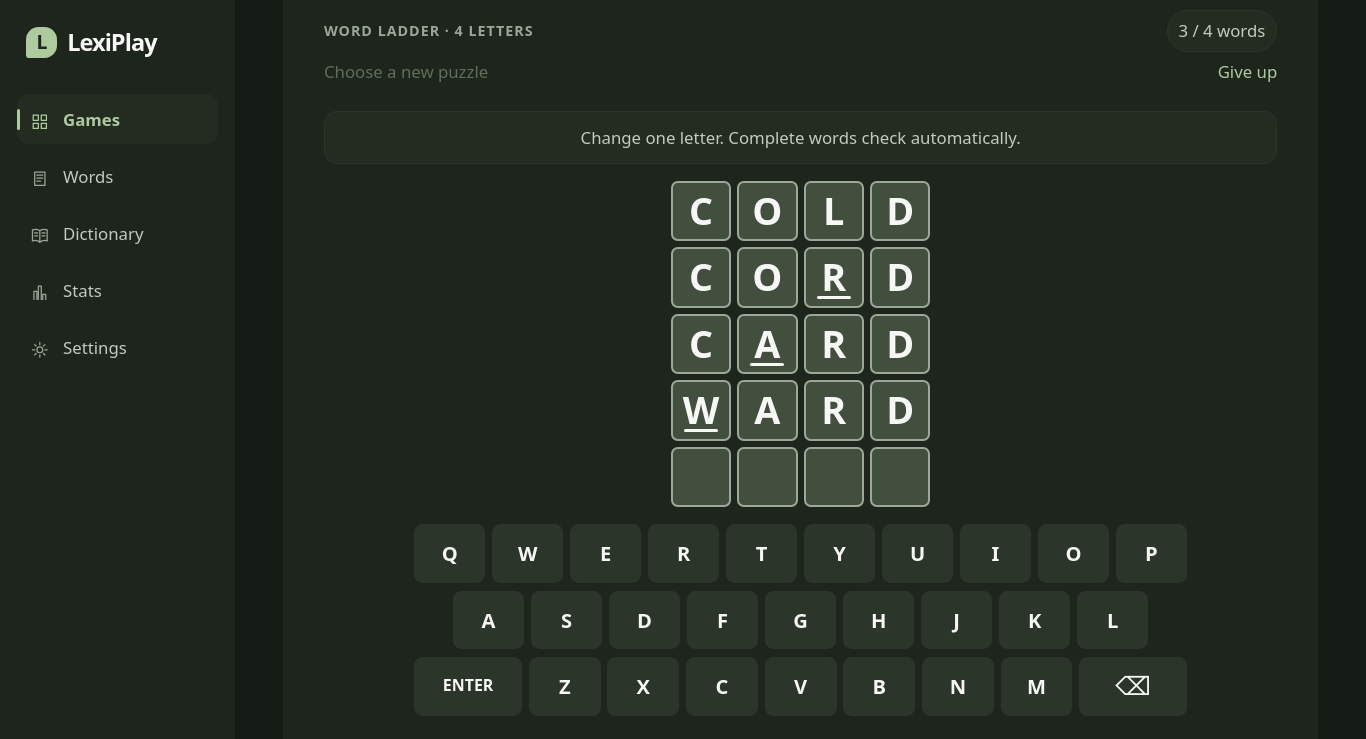
it: completed games › reminds guests after winning word-ladder and again after a replay
The image size is (1366, 739).
(page scrolled)
expect the element named "four-letter guess" is shown: met, box [671,181,1168,507]
Type keys "warm"
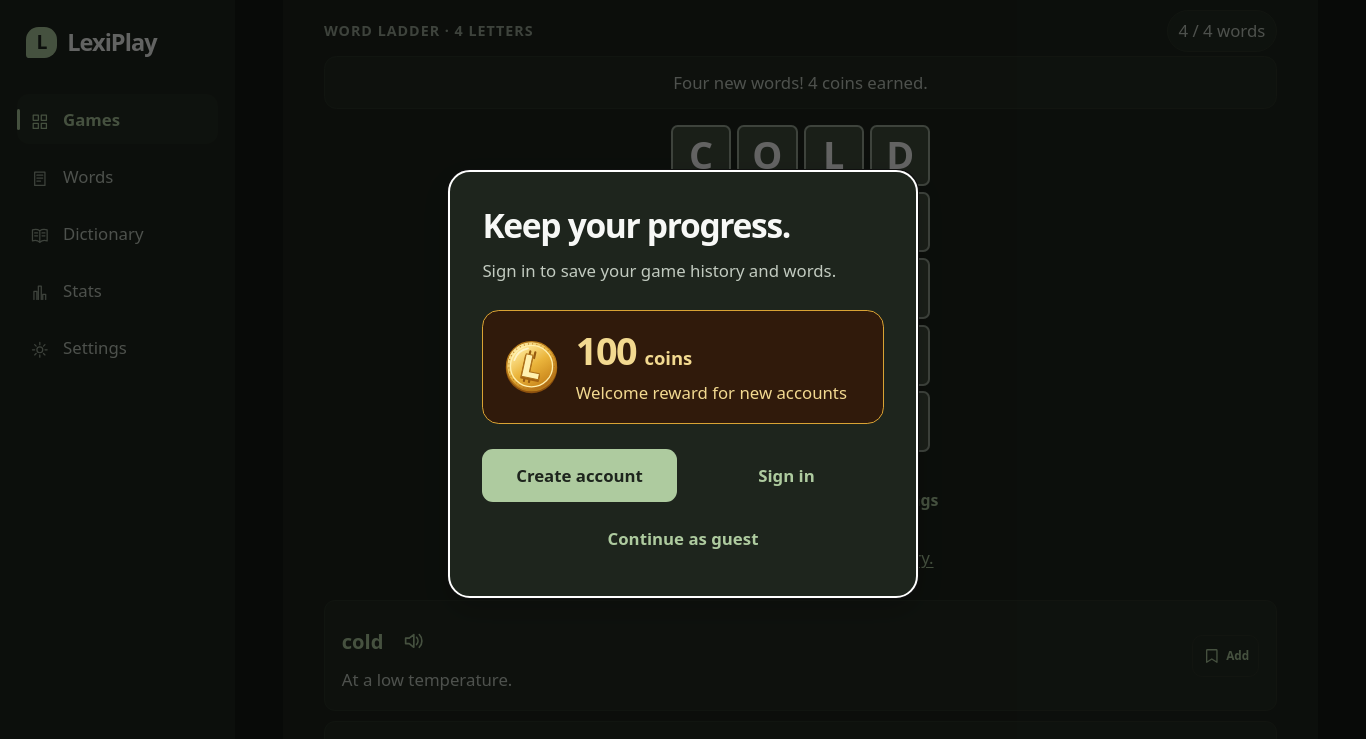
Click the button "Continue as guest". click: coordinates (683, 539)
box: [608,514,758,563]
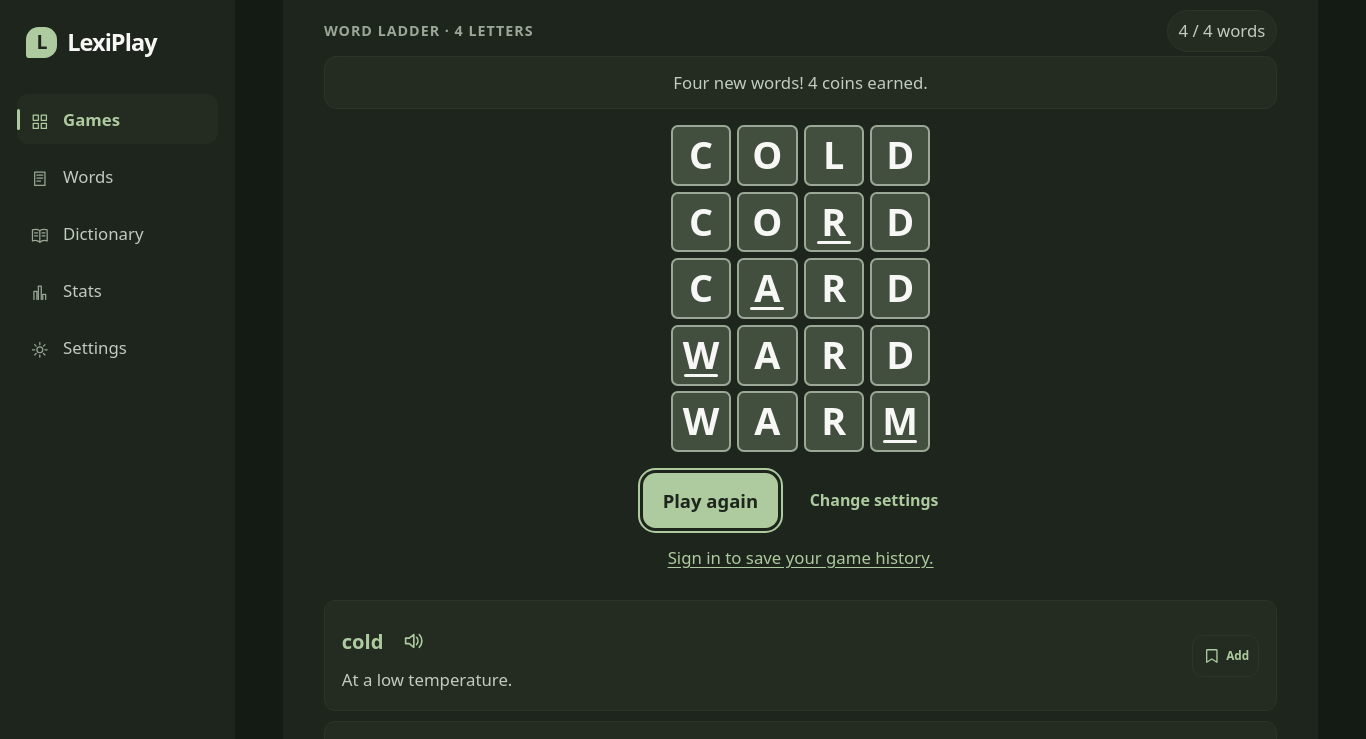
expect the button "Play again" is enabled: met
Click the button "Play again". click: coordinates (710, 501)
box: [643,473,778,528]
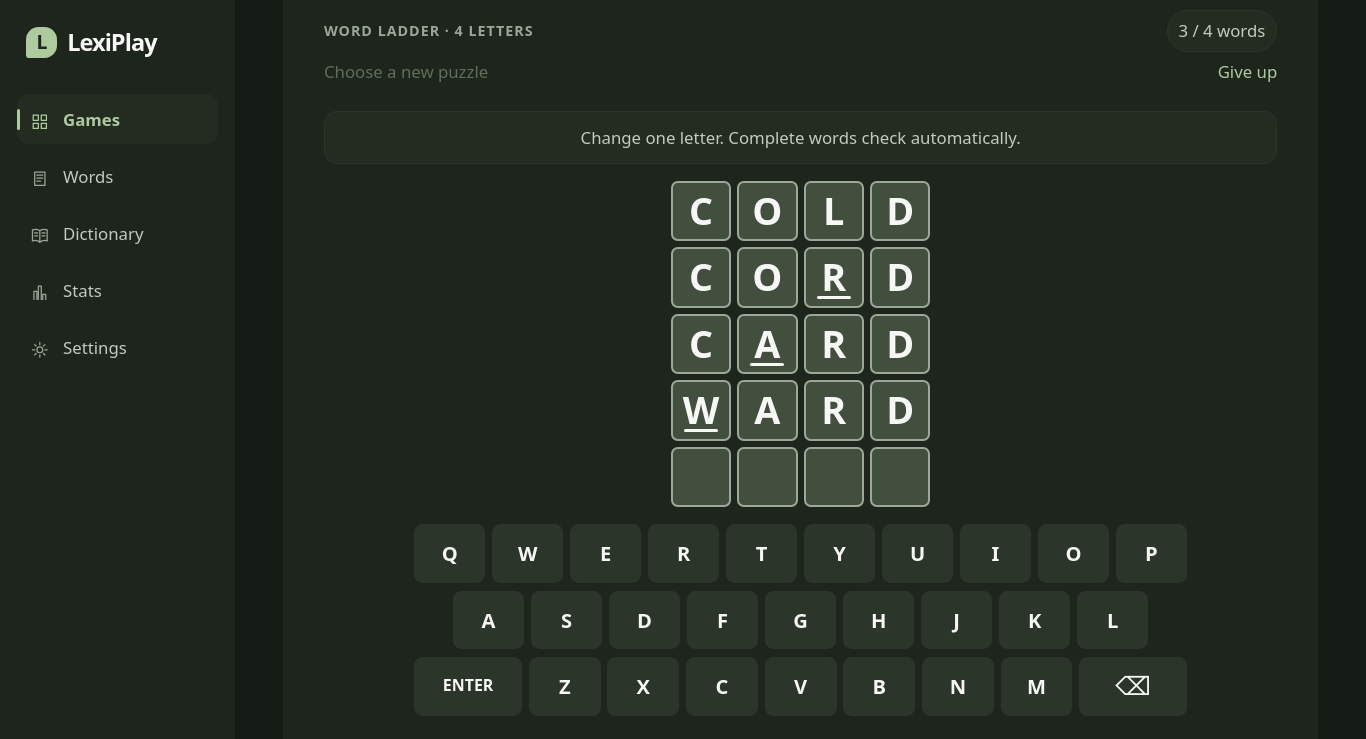
expect the element named "four-letter guess" is shown: met, box [671,181,1168,507]
Type keys "warm"
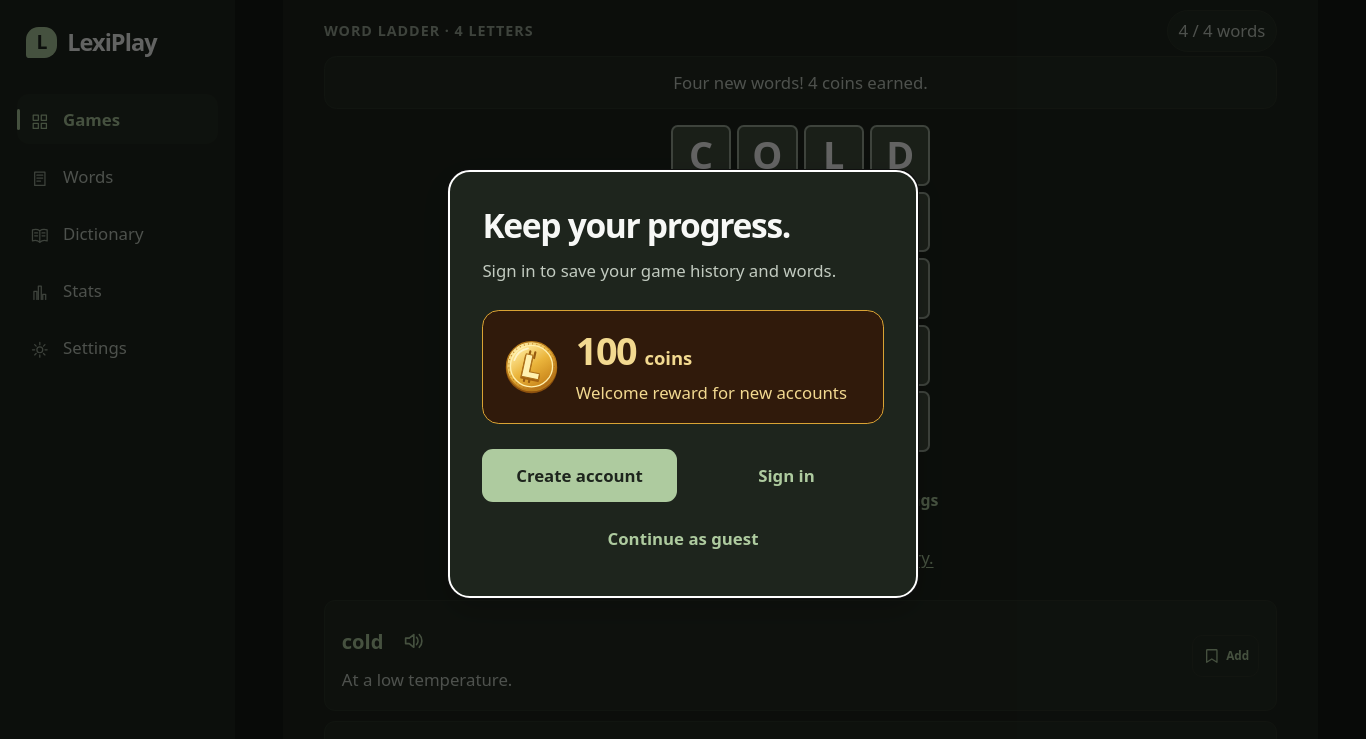
expect the element named "New accounts start with 100 coins." is shown: met, box [482,310,884,424]
